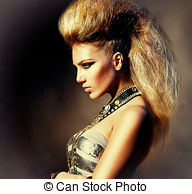face: (68, 1, 134, 101)
